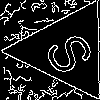S: (41, 25, 100, 78)
